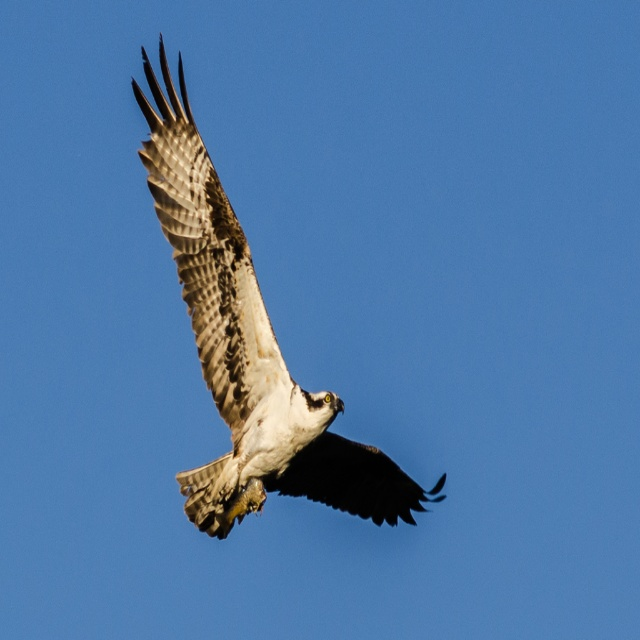Eagle: (131, 32, 446, 540)
